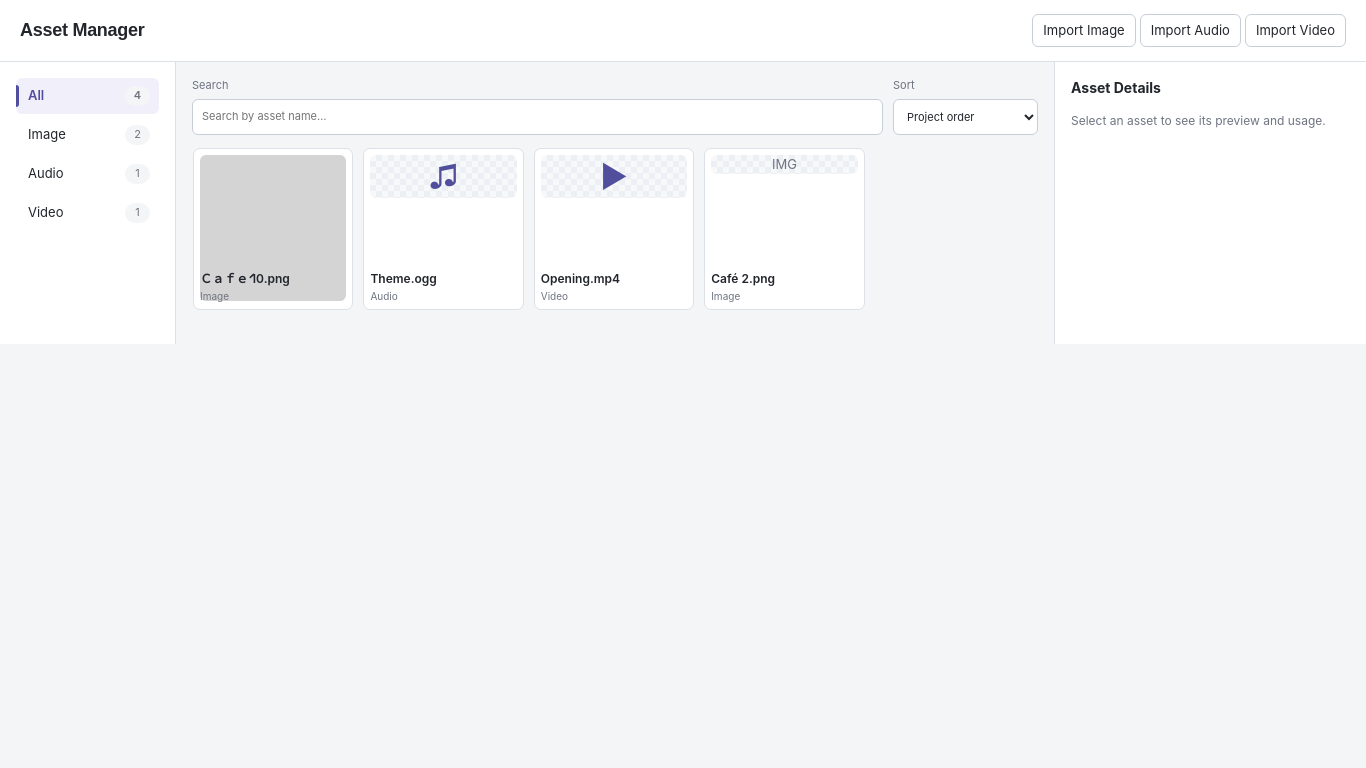
Scenario: AssetManager › deletes only an unused selected asset after confirmation
The width and height of the screenshot is (1366, 768).
Click the button "▶ Opening.mp4 Video": [614, 229] box left=534, top=148, right=694, bottom=310
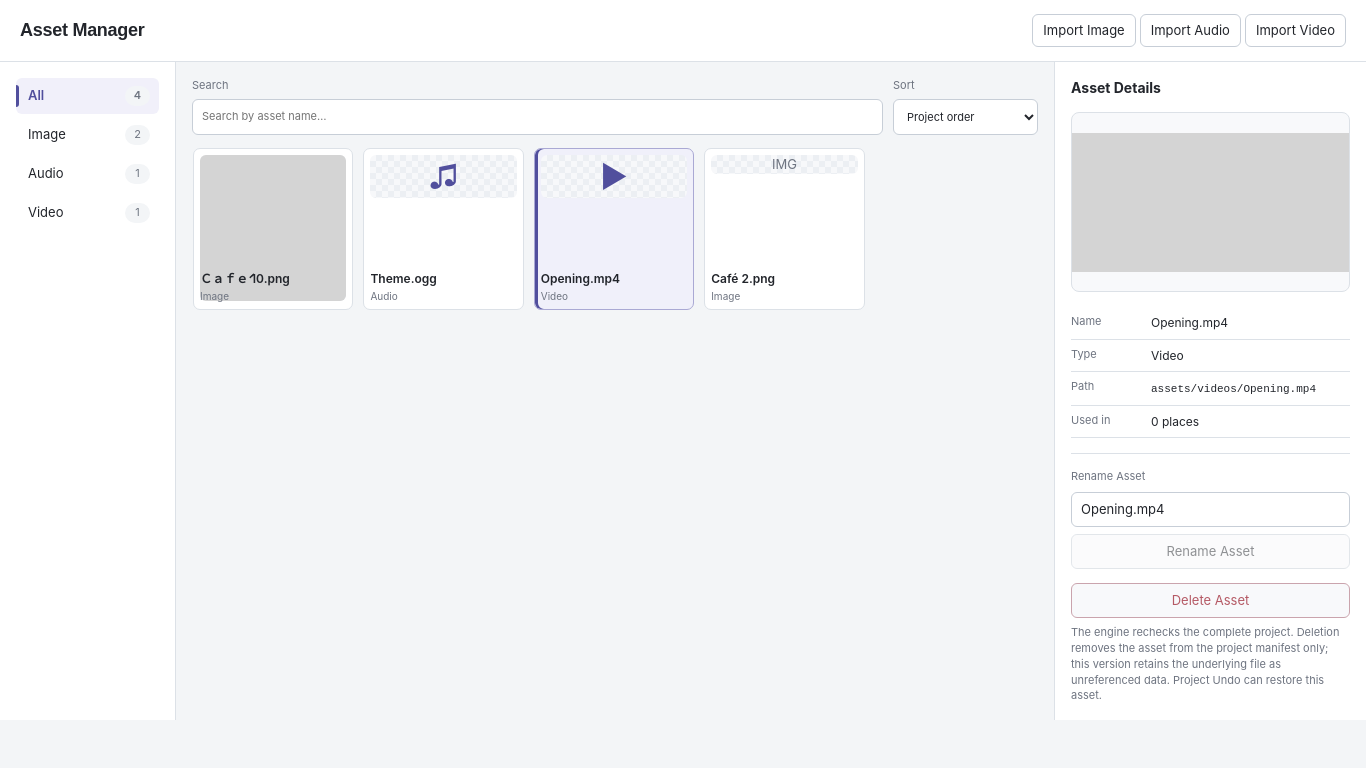
Check: the button with class "asset-manager-delete-button" is enabled
Click the button with class "asset-manager-delete-button": [1210, 600] box left=1071, top=583, right=1350, bottom=618
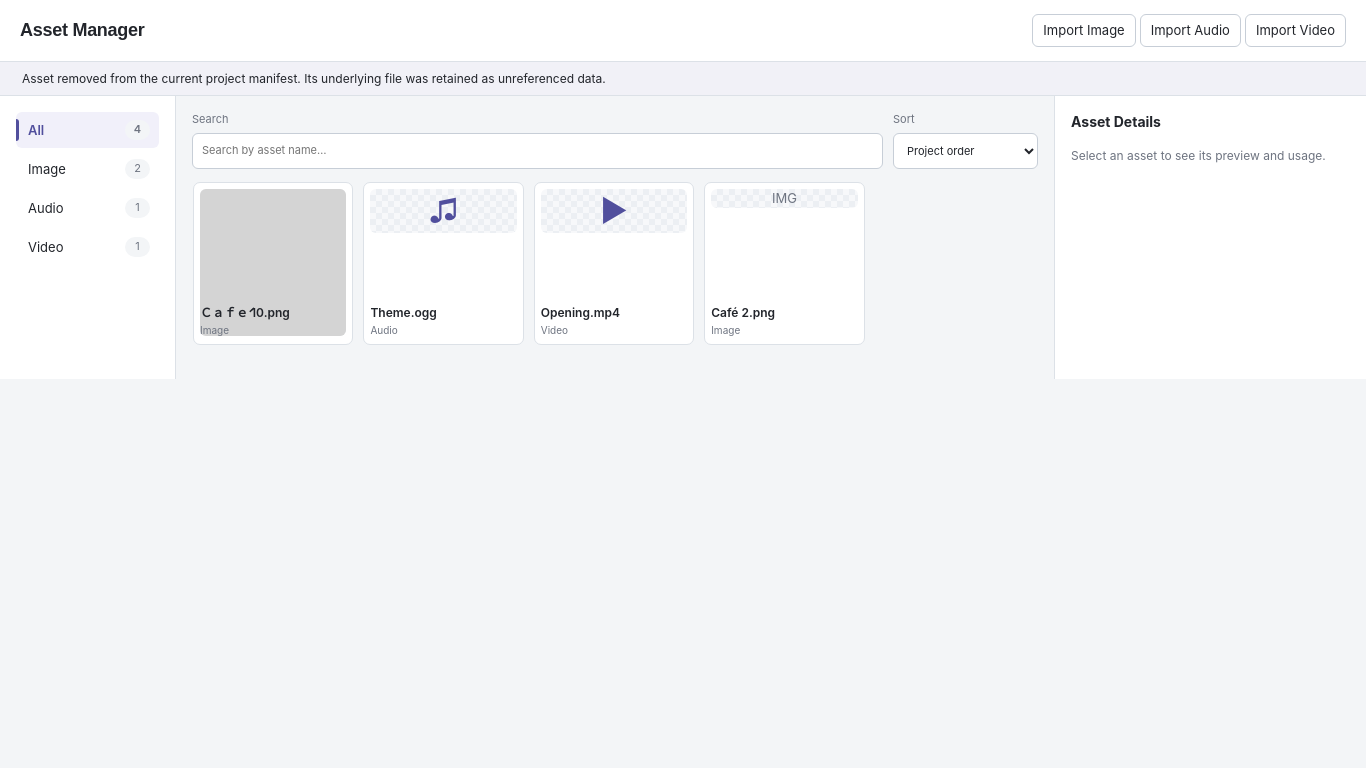
Check: the message shows "Asset removed from the current project manifest. Its underlying file was retained as unreferenced data.", box left=22, top=71, right=606, bottom=86
Check: the text "Select an asset to see its preview and usage." is shown, box left=1071, top=146, right=1350, bottom=164
